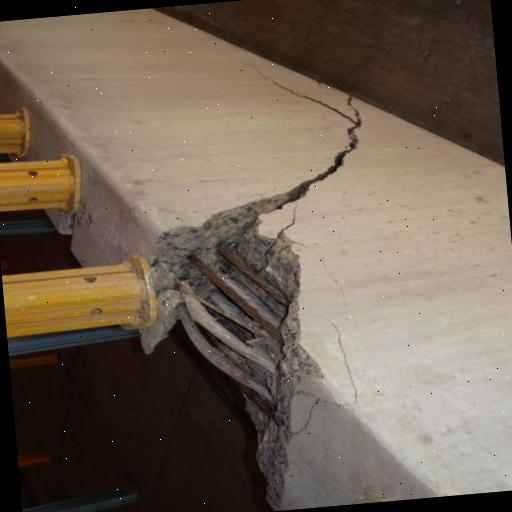spalling: (138, 180, 323, 511), (247, 58, 373, 200)
